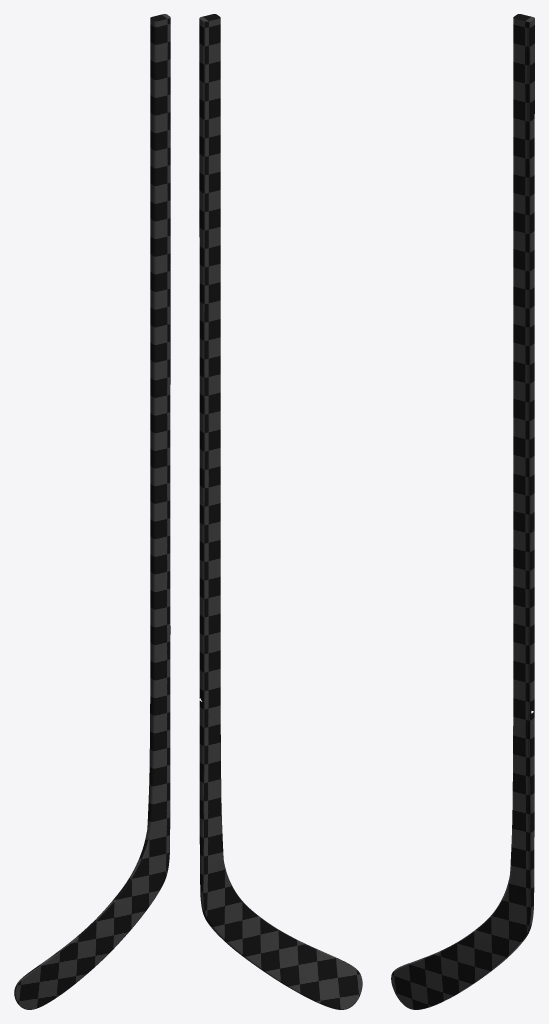
3 views of the same model, side by side, from view 1: azimuth 30°, elevation 25°; view 2: azimuth 210°, elevation 25°; view 3: azimuth 330°, elevation 25° (orthographic). The views are drawn at different scales.
Parts seen in each view (by area): view 1: geometry_0; view 2: geometry_0; view 3: geometry_0.
Boxes of the visible parts, x1,y1,x2,y2 form: geometry_0: [14, 14, 170, 1009]; geometry_0: [199, 14, 362, 1009]; geometry_0: [391, 14, 534, 1009].
Size of the model in its own units: 256 by 1650 by 46.74.
Materials: 1 (1 with a texture image).
